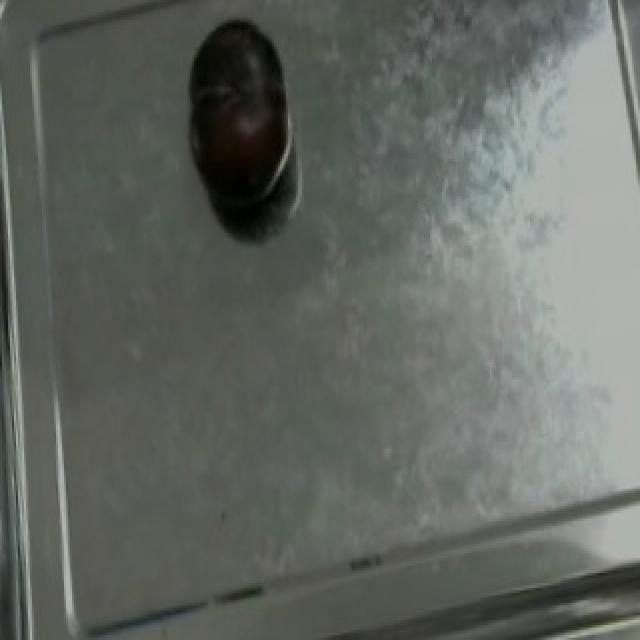Fruit: (182, 12, 294, 204)
